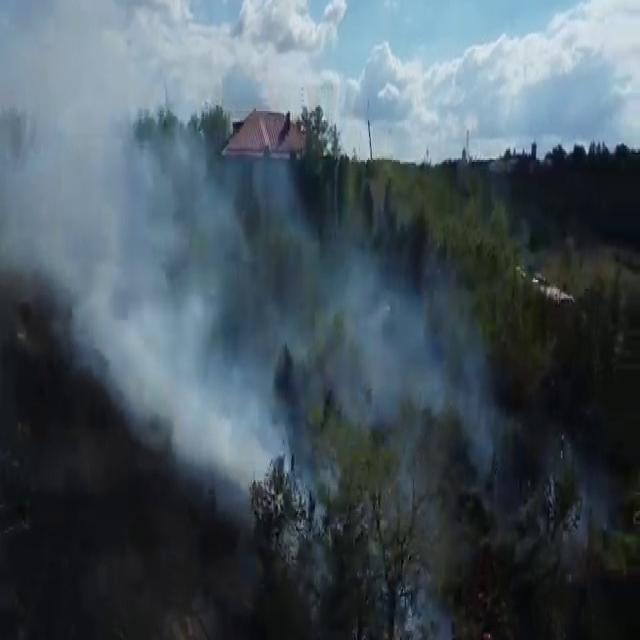smoke: (1, 21, 498, 524)
